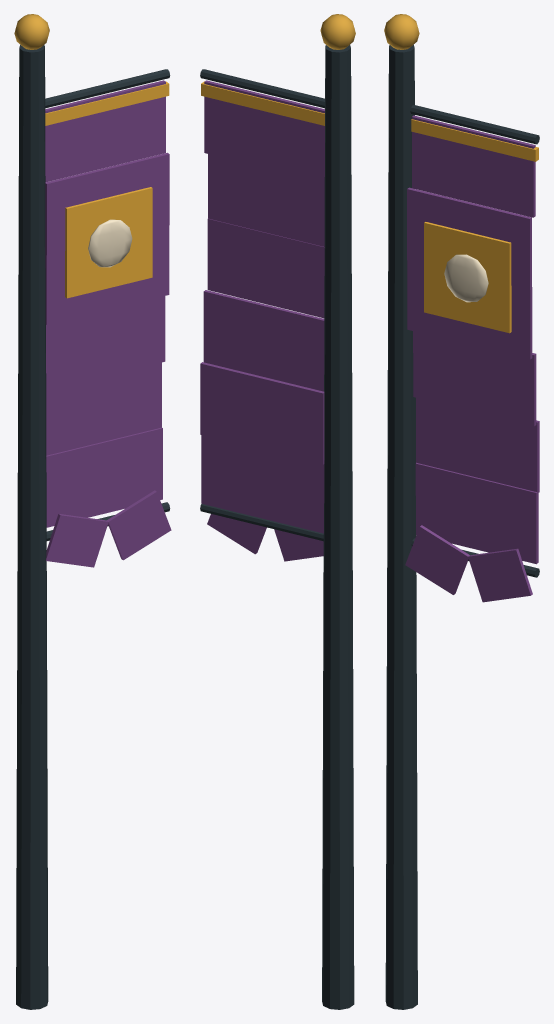
The model's file is rt_banner_plum.glb.
3 views of the same model, side by side, from view 1: azimuth 30°, elevation 25°; view 2: azimuth 150°, elevation 25°; view 3: azimuth 330°, elevation 25° (orthographic).
Visible parts, largest first — view 1: rt_banner_plum_body; view 2: rt_banner_plum_body; view 3: rt_banner_plum_body.
Part boxes in pixels (<box>): rt_banner_plum_body: <box>14,14,171,1009</box>; rt_banner_plum_body: <box>200,14,355,1009</box>; rt_banner_plum_body: <box>384,14,539,1009</box>.
Bounding box in the file's own units: 1.05 × 6.61 × 0.22.
